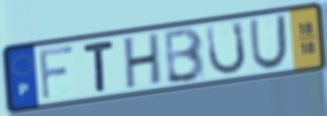B: (163, 25, 207, 86)
F: (36, 43, 76, 103)
H: (123, 30, 163, 92)
T: (81, 38, 116, 94)
U: (205, 19, 249, 77), (247, 13, 289, 72)
